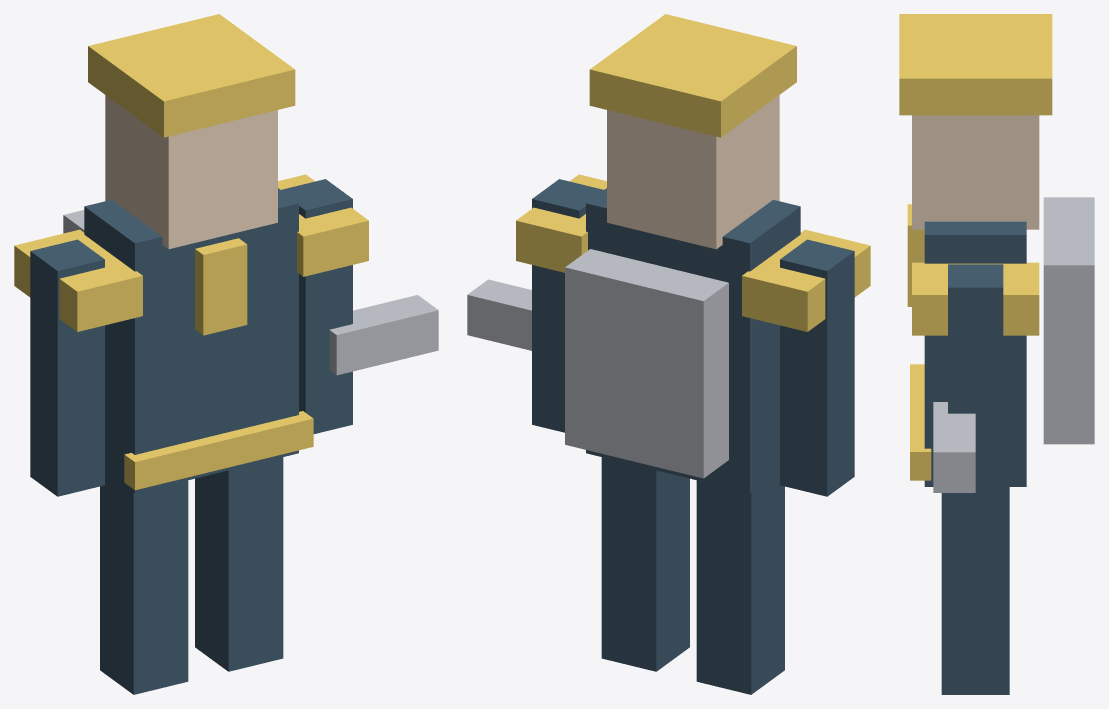
Rendered from 17_sarai_gravesong_diver_at_data.glb.
3 renders of one model, left to right at view 1: azimuth 30°, elevation 25°; view 2: azimuth 150°, elevation 25°; view 3: azimuth 270°, elevation 25°, orthographic.
Parts seen in each view (by area): view 1: Sarai Gravesong, Diver at Data; view 2: Sarai Gravesong, Diver at Data; view 3: Sarai Gravesong, Diver at Data.
Part boxes in pixels (x1=…): Sarai Gravesong, Diver at Data: x1=14, y1=14, x2=438, y2=694; Sarai Gravesong, Diver at Data: x1=467, y1=14, x2=870, y2=694; Sarai Gravesong, Diver at Data: x1=899, y1=14, x2=1094, y2=694.
Size of the model in its own units: 1.07 by 1.66 by 0.4794.
